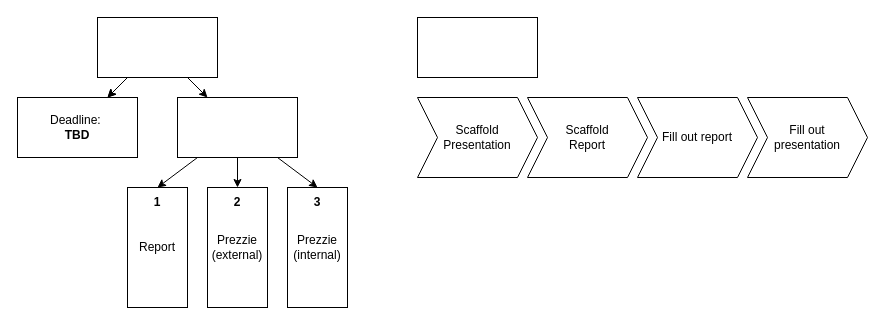
Some shapes in this 885 by 325 pixel diagram are drawn without their labels. Here are the shapes that lost their labels. From the top down, the centre of each, then its label:
At (x=157, y=47): "Starting Point:".
At (x=477, y=47): "Todo".
At (x=237, y=127): "Deliverables".
